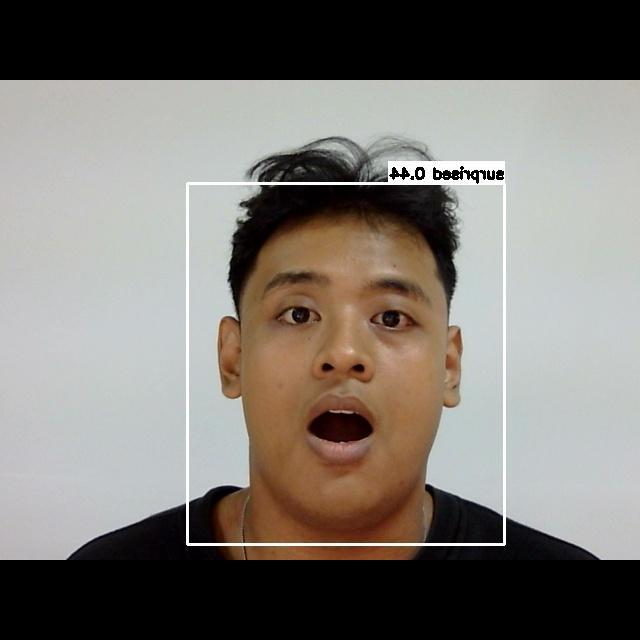Surprised: (238, 252, 448, 486)
